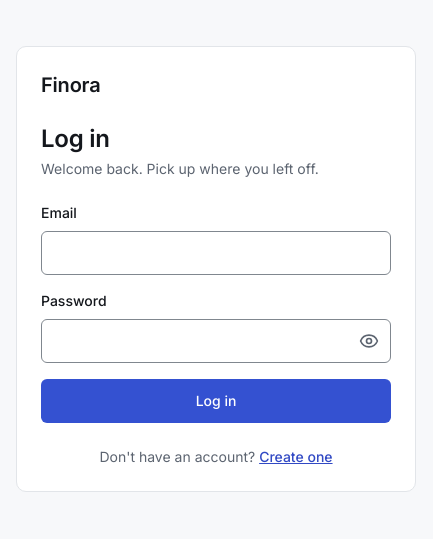
Test case: login page › uses a plain message for an error it does not know
Expected: the heading "Log in" is shown, 41,124 -> 110,153
Type "me@example.com" into the field labelled "Email" at (216, 253), box 41,231 -> 391,275
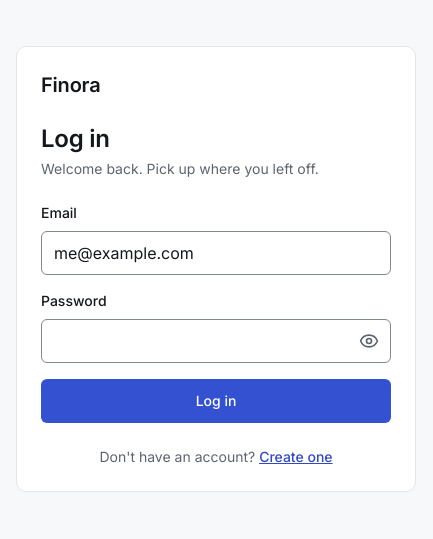
Type "password123" into the password field labelled "Password" at (216, 341), box 41,319 -> 391,363
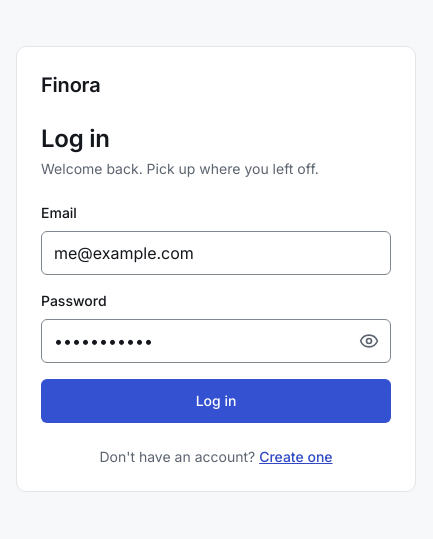
Click the button "Log in" at (216, 401), box 41,379 -> 391,423
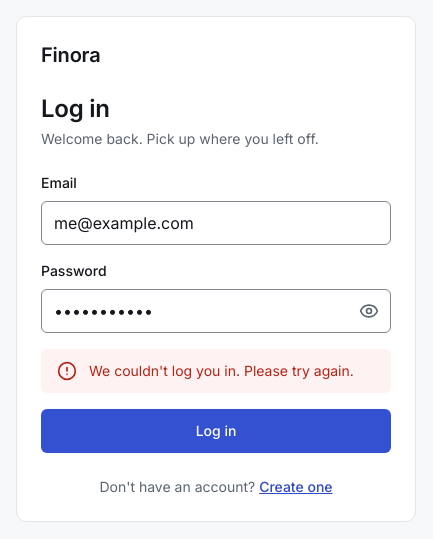
Expected: the message does not show "relation", 41,349 -> 391,393
Now the message reads "We couldn't log you in. Please try again.", box 89,362 -> 354,379
